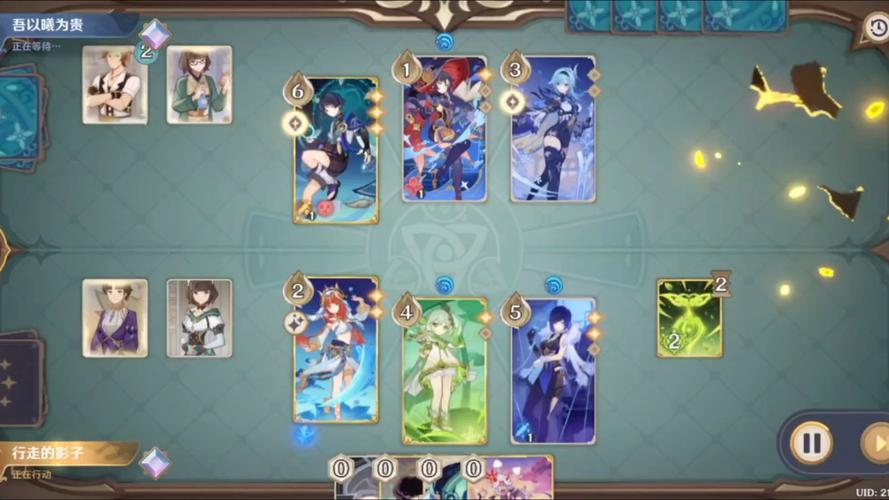夜兰: (523, 302, 587, 445)
